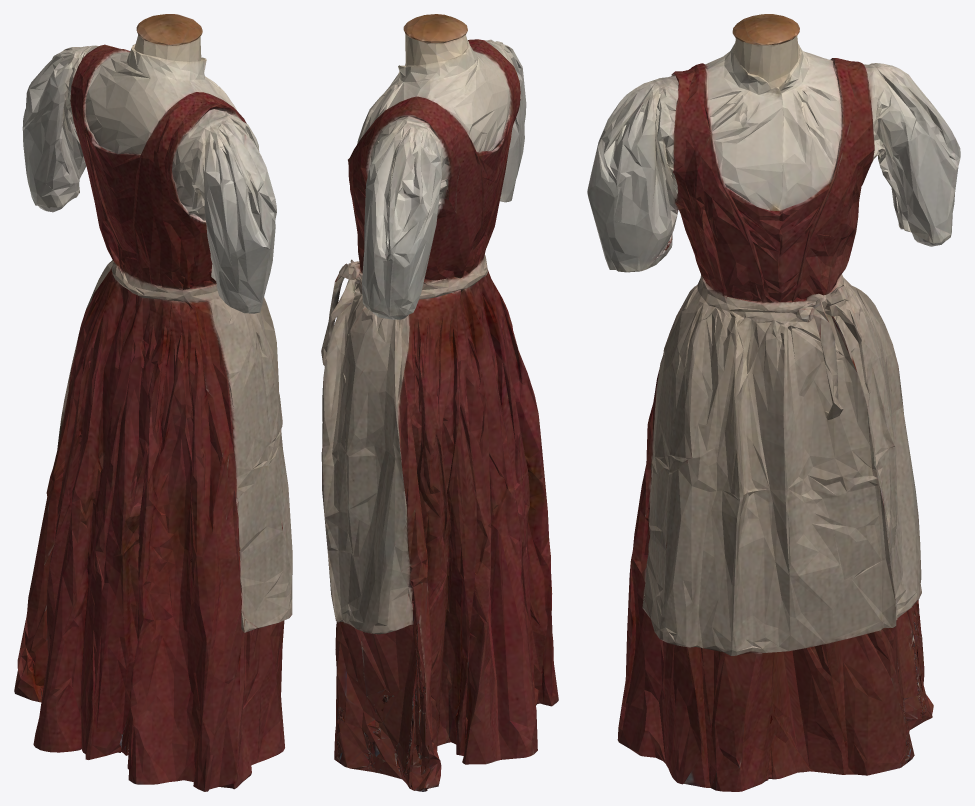
The model's file is ED99580F-22E9-C448-BDCD-5CAA8ABBE22B_512.glb.
3 views of the same model, side by side, from view 1: azimuth 30°, elevation 25°; view 2: azimuth 150°, elevation 25°; view 3: azimuth 270°, elevation 25° (orthographic). The views are drawn at different scales.
Parts seen in each view (by area): view 1: Arbeitsdirndl_24k_1k; view 2: Arbeitsdirndl_24k_1k; view 3: Arbeitsdirndl_24k_1k.
Part boxes in pixels (box(x1,y1,x2,y2)): Arbeitsdirndl_24k_1k: box(14, 14, 292, 791); Arbeitsdirndl_24k_1k: box(321, 14, 558, 791); Arbeitsdirndl_24k_1k: box(587, 14, 960, 791).
Size of the model in its own units: 0.3945 by 1.27 by 0.5854.
1 material, 1 textured.
